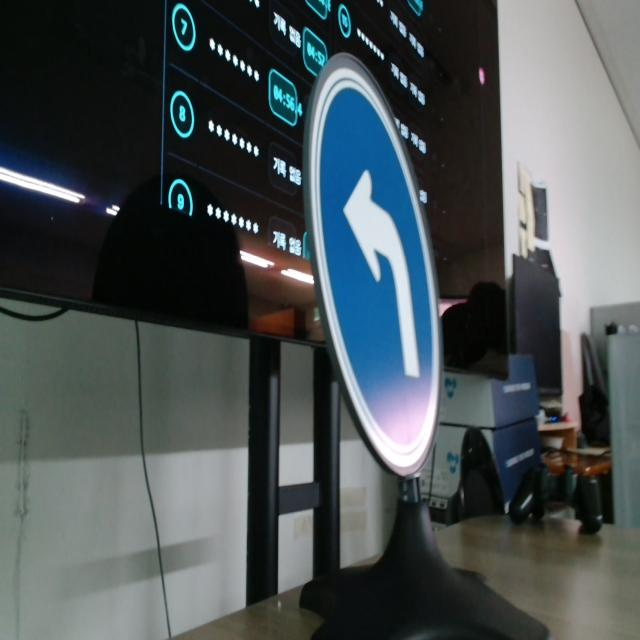left_direction: (302, 46, 448, 479)
